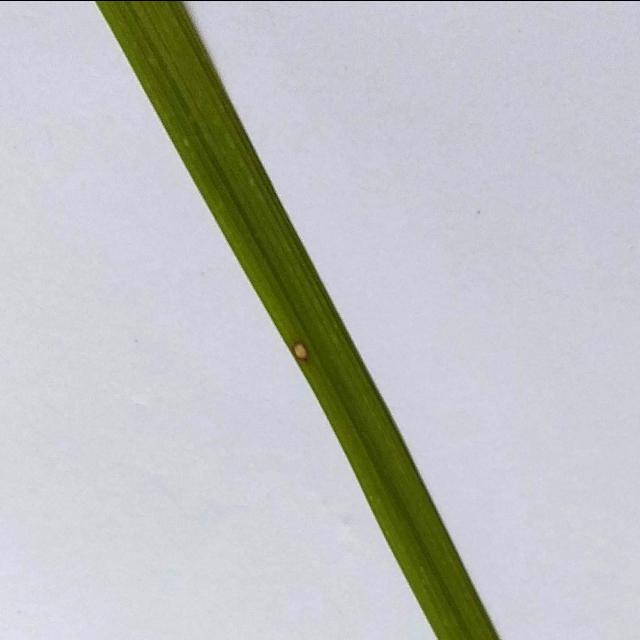Leaf blast: (92, 0, 513, 639)
